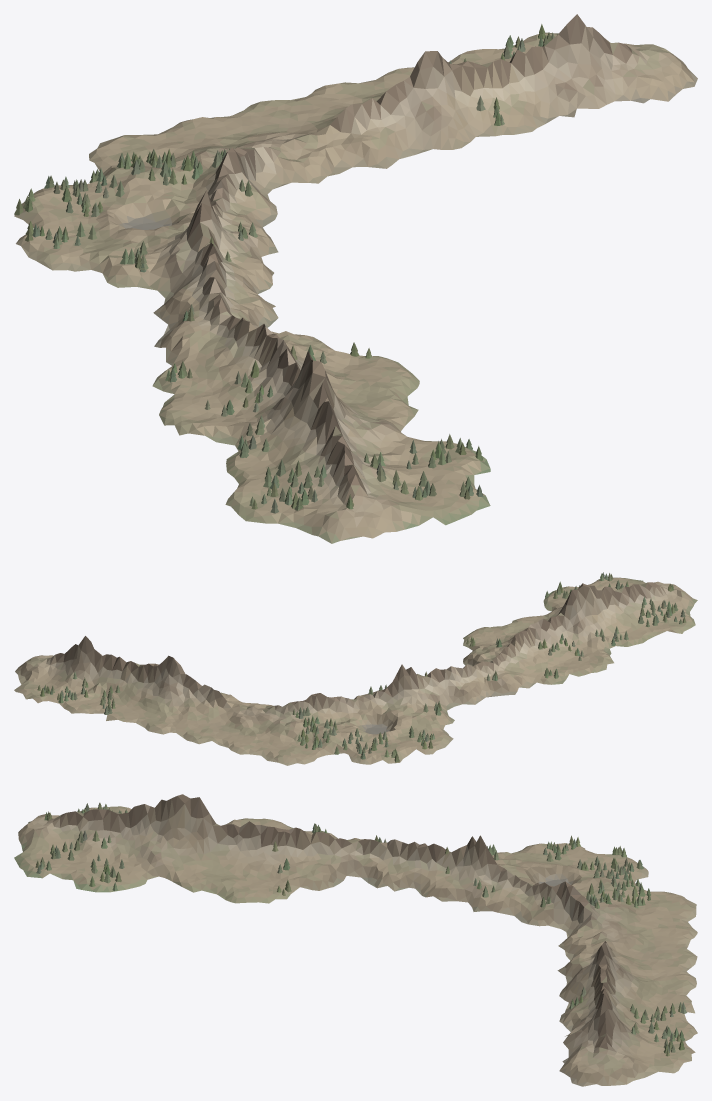
File: range_taihang_yanshan.glb
3 views of the same model, one above another, from view 1: azimuth 30°, elevation 25°; view 2: azimuth 150°, elevation 25°; view 3: azimuth 270°, elevation 25° (orthographic). The views are drawn at different scales.
Parts seen in each view (by area): view 1: range_taihang_yanshan, trees_taihang_yanshan; view 2: range_taihang_yanshan, trees_taihang_yanshan; view 3: range_taihang_yanshan, trees_taihang_yanshan.
Boxes of the visible parts, x1=… form: range_taihang_yanshan: x1=14, y1=14, x2=697, y2=543; trees_taihang_yanshan: x1=14, y1=24, x2=557, y2=513; range_taihang_yanshan: x1=14, y1=577, x2=697, y2=765; trees_taihang_yanshan: x1=37, y1=572, x2=685, y2=762; range_taihang_yanshan: x1=14, y1=794, x2=697, y2=1086; trees_taihang_yanshan: x1=35, y1=802, x2=686, y2=1056.
Size of the model in its own units: 357 by 36.68 by 371.
